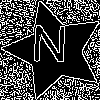N: (30, 25, 69, 72)
